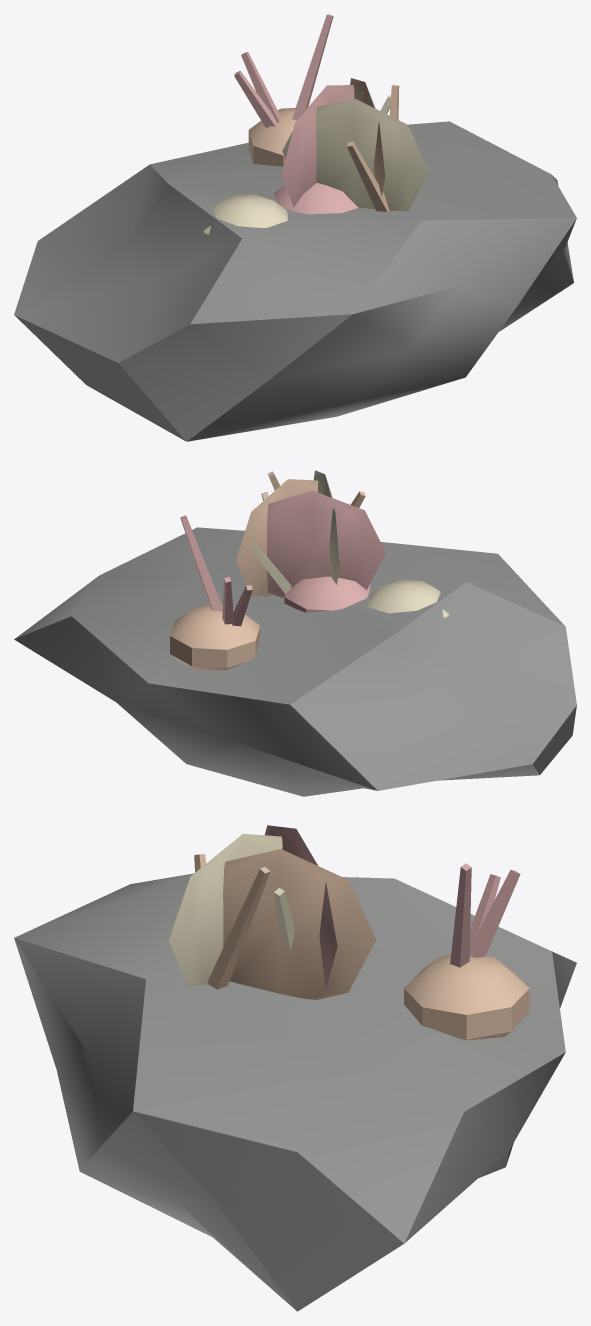
Rendered from reef_a.gltf.
The picture shows the model from 3 angles, top to bottom: view 1: azimuth 30°, elevation 25°; view 2: azimuth 150°, elevation 25°; view 3: azimuth 270°, elevation 25°; orthographic projection. The views are drawn at different scales.
Parts seen in each view (by area): view 1: Body; view 2: Body; view 3: Body.
Part boxes in pixels (x1,y1,x2,y2): Body: (14,14,576,441); Body: (14,470,576,796); Body: (14,825,576,1311).
Size of the model in its own units: 3.65 by 1.82 by 2.56.
